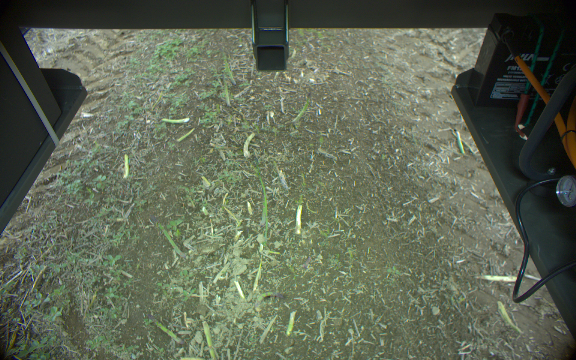aspa: (253, 165, 273, 246), (151, 216, 187, 260), (143, 312, 185, 346), (198, 314, 216, 360), (290, 89, 313, 125), (220, 50, 239, 86), (253, 287, 284, 304), (240, 130, 258, 159), (293, 200, 307, 236), (220, 71, 233, 108), (284, 308, 299, 338), (159, 114, 192, 127), (451, 129, 467, 154), (177, 125, 195, 144), (121, 154, 133, 180)
